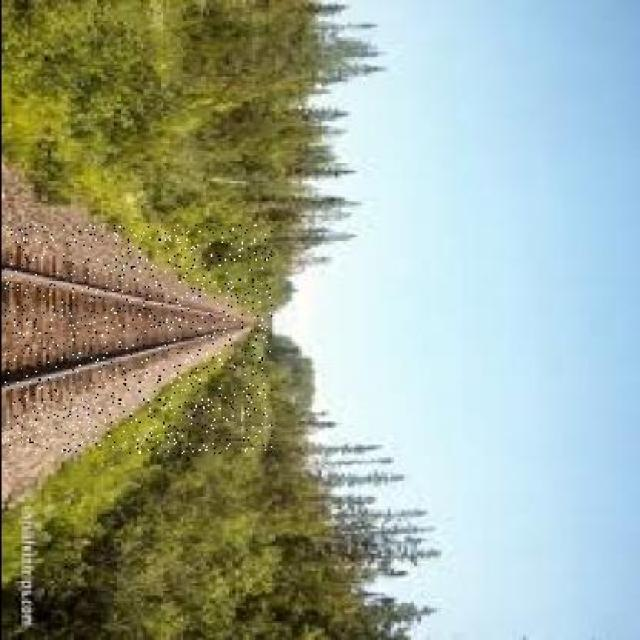rail: (3, 225, 271, 454)
